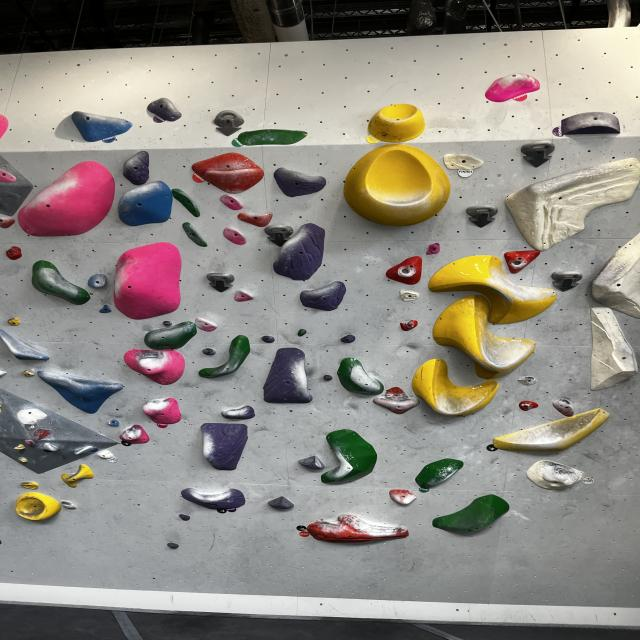hold: (503, 156, 640, 249), (338, 143, 449, 229), (431, 294, 536, 378), (17, 160, 118, 238), (491, 408, 613, 460), (115, 241, 184, 321), (413, 358, 499, 419), (588, 306, 635, 394), (39, 368, 123, 414), (430, 491, 514, 537), (316, 429, 378, 486), (296, 514, 413, 544), (597, 240, 640, 318), (190, 150, 264, 192), (30, 256, 90, 306), (262, 346, 312, 406), (199, 419, 252, 473), (118, 181, 177, 226), (195, 332, 252, 378), (364, 104, 432, 141), (120, 347, 186, 385), (525, 457, 589, 494), (68, 107, 133, 143), (177, 486, 251, 512), (338, 358, 382, 400), (273, 164, 326, 198), (413, 456, 465, 490), (297, 281, 350, 314), (481, 71, 541, 100), (558, 110, 623, 136), (12, 492, 57, 523), (144, 94, 188, 125), (383, 255, 426, 285), (231, 130, 311, 146), (0, 332, 44, 360), (121, 148, 154, 185), (143, 398, 184, 426), (502, 248, 542, 274), (60, 462, 98, 488), (442, 150, 489, 171), (517, 141, 558, 165), (173, 185, 203, 215), (180, 220, 210, 250), (548, 270, 585, 291), (215, 110, 246, 134), (235, 210, 276, 227), (203, 272, 239, 291), (16, 407, 51, 426), (119, 425, 152, 444), (266, 226, 294, 246), (296, 455, 328, 472), (266, 494, 296, 511), (222, 228, 250, 246), (219, 194, 246, 212), (550, 400, 576, 418), (192, 316, 218, 333), (85, 273, 110, 290), (56, 498, 80, 514), (4, 244, 26, 260), (0, 205, 15, 228), (200, 340, 219, 358), (517, 399, 541, 413), (423, 240, 444, 256), (163, 536, 184, 552), (399, 317, 420, 332), (0, 169, 21, 184), (396, 290, 422, 302), (72, 442, 96, 455), (516, 374, 540, 386), (175, 510, 193, 526), (97, 449, 116, 463), (230, 290, 252, 302), (33, 428, 55, 439), (21, 480, 40, 492), (44, 440, 60, 454), (337, 334, 359, 344), (23, 367, 37, 380), (99, 304, 112, 316), (23, 436, 36, 448), (12, 442, 24, 455), (5, 318, 22, 327), (258, 334, 275, 343), (13, 456, 31, 464), (160, 319, 174, 328), (296, 328, 311, 336), (106, 420, 120, 427)
